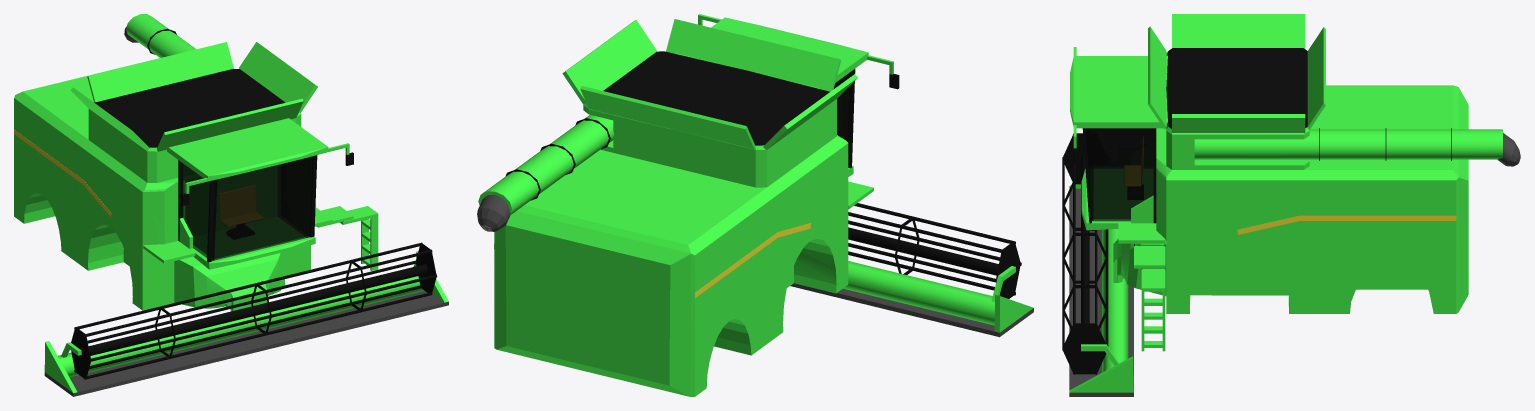
File: Cosechadora.obj
3 renders of one model, left to right at view 1: azimuth 30°, elevation 25°; view 2: azimuth 150°, elevation 25°; view 3: azimuth 270°, elevation 25°, orthographic. The views are drawn at different scales.
Visible parts, largest first — view 1: Cosechadora; view 2: Cosechadora; view 3: Cosechadora.
Part boxes in pixels (x1,y1,x2,y2): Cosechadora: (14,14,448,396); Cosechadora: (477,14,1033,396); Cosechadora: (1062,14,1520,396).
Bounding box in the file's own units: 5.3 × 2.81 × 4.97.
